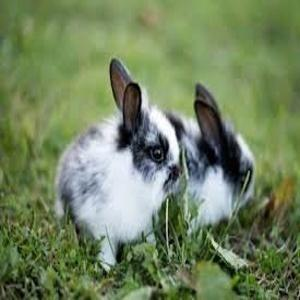rabbit: (57, 57, 255, 265)
